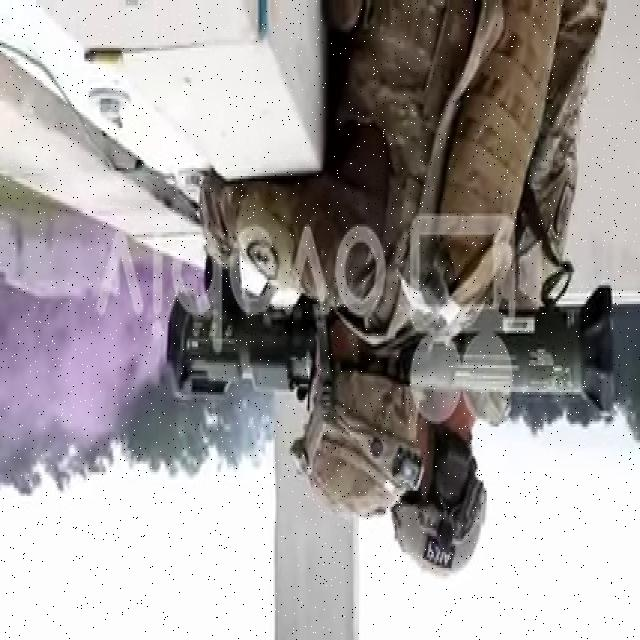bazooka: (158, 275, 621, 419)
